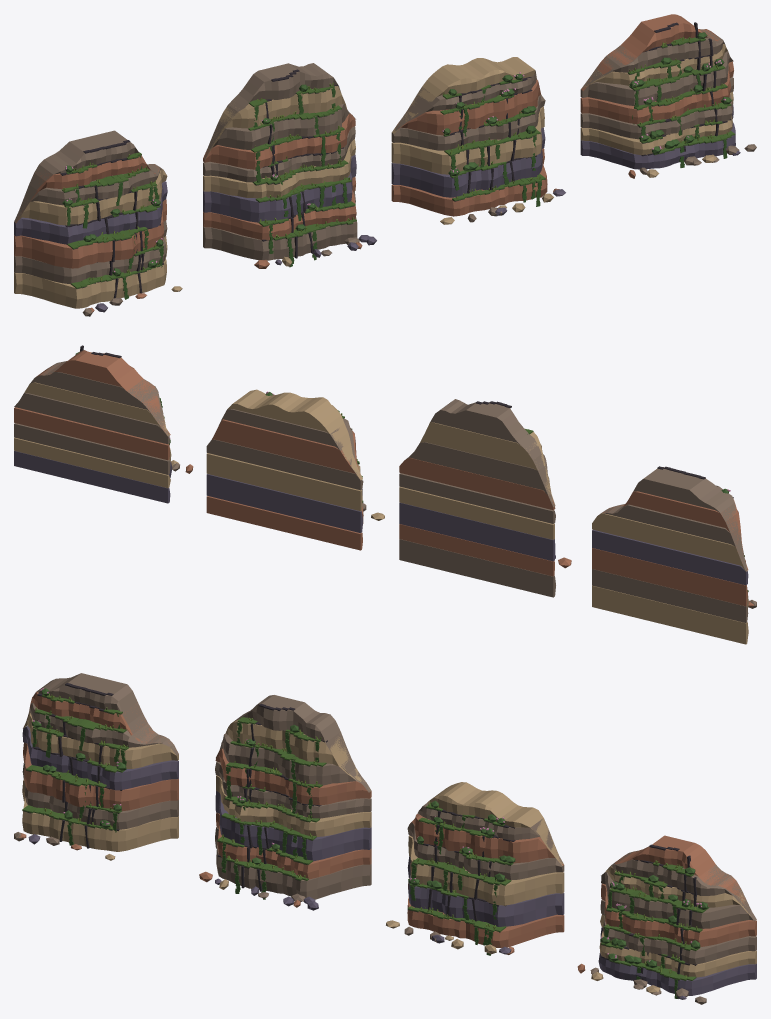
Rendered from Parois.fbx.
The picture shows the model from 3 angles, top to bottom: view 1: azimuth 30°, elevation 25°; view 2: azimuth 150°, elevation 25°; view 3: azimuth 330°, elevation 25°; orthographic projection.
Visible parts, largest first — view 1: Paroi2_RocheChaude, Paroi4_RocheChaude, Paroi1_RocheChaude, Paroi3_RocheOcre, Paroi1_RocheOcre, Paroi3_RocheRose, Paroi2_RocheRose, Paroi4_RocheRose, Paroi2_RocheOcre, Paroi1_RocheRose, Paroi3_RocheChaude, Paroi4_RocheOcre (+19 smaller); view 2: Paroi2_RocheChaude, Paroi1_RocheChaude, Paroi4_RocheChaude, Paroi3_RocheOcre, Paroi1_RocheOcre, Paroi3_RocheRose, Paroi1_RocheRose, Paroi2_RocheRose, Paroi4_RocheRose, Paroi2_RocheOcre, Paroi3_RocheChaude, Paroi4_RocheOcre (+4 smaller); view 3: Paroi2_RocheChaude, Paroi1_RocheChaude, Paroi4_RocheChaude, Paroi3_RocheOcre, Paroi1_RocheOcre, Paroi3_RocheRose, Paroi4_RocheRose, Paroi2_RocheRose, Paroi1_RocheRose, Paroi2_RocheOcre, Paroi3_RocheChaude, Paroi4_RocheOcre (+19 smaller).
Part boxes in pixels (<box>): Paroi2_RocheChaude: <box>203,63,359,260</box>; Paroi4_RocheChaude: <box>580,29,756,174</box>; Paroi1_RocheChaude: <box>14,130,167,316</box>; Paroi3_RocheOcre: <box>391,57,553,224</box>; Paroi1_RocheOcre: <box>14,169,182,308</box>; Paroi3_RocheRose: <box>391,79,559,216</box>; Paroi2_RocheRose: <box>203,113,362,268</box>; Paroi4_RocheRose: <box>580,14,733,178</box>; Paroi2_RocheOcre: <box>203,86,355,266</box>; Paroi1_RocheRose: <box>14,155,166,312</box>; Paroi3_RocheChaude: <box>391,72,545,222</box>; Paroi4_RocheOcre: <box>580,44,733,177</box>; Paroi2_RocheChaude: <box>399,399,555,597</box>; Paroi1_RocheChaude: <box>592,467,756,622</box>; Paroi4_RocheChaude: <box>14,361,179,474</box>; Paroi3_RocheOcre: <box>206,389,384,520</box>; Paroi1_RocheOcre: <box>592,513,748,644</box>; Paroi3_RocheRose: <box>206,419,363,550</box>; Paroi1_RocheRose: <box>592,491,753,607</box>; Paroi2_RocheRose: <box>399,457,571,576</box>; Paroi4_RocheRose: <box>14,350,193,473</box>; Paroi2_RocheOcre: <box>399,422,555,539</box>; Paroi3_RocheChaude: <box>206,409,366,511</box>; Paroi4_RocheOcre: <box>14,382,178,488</box>; Paroi2_RocheChaude: <box>215,695,371,901</box>; Paroi1_RocheChaude: <box>14,673,178,845</box>; Paroi4_RocheChaude: <box>590,849,756,1004</box>; Paroi3_RocheOcre: <box>386,782,564,954</box>; Paroi1_RocheOcre: <box>22,712,178,860</box>; Paroi3_RocheRose: <box>407,814,564,954</box>; Paroi4_RocheRose: <box>577,835,756,973</box>; Paroi2_RocheRose: <box>199,748,371,907</box>; Paroi1_RocheRose: <box>19,691,178,850</box>; Paroi2_RocheOcre: <box>216,719,371,889</box>; Paroi3_RocheChaude: <box>404,803,564,942</box>; Paroi4_RocheOcre: <box>591,866,756,993</box>.
Bounding box in the file's own units: 304 × 69.38 × 32.26.
